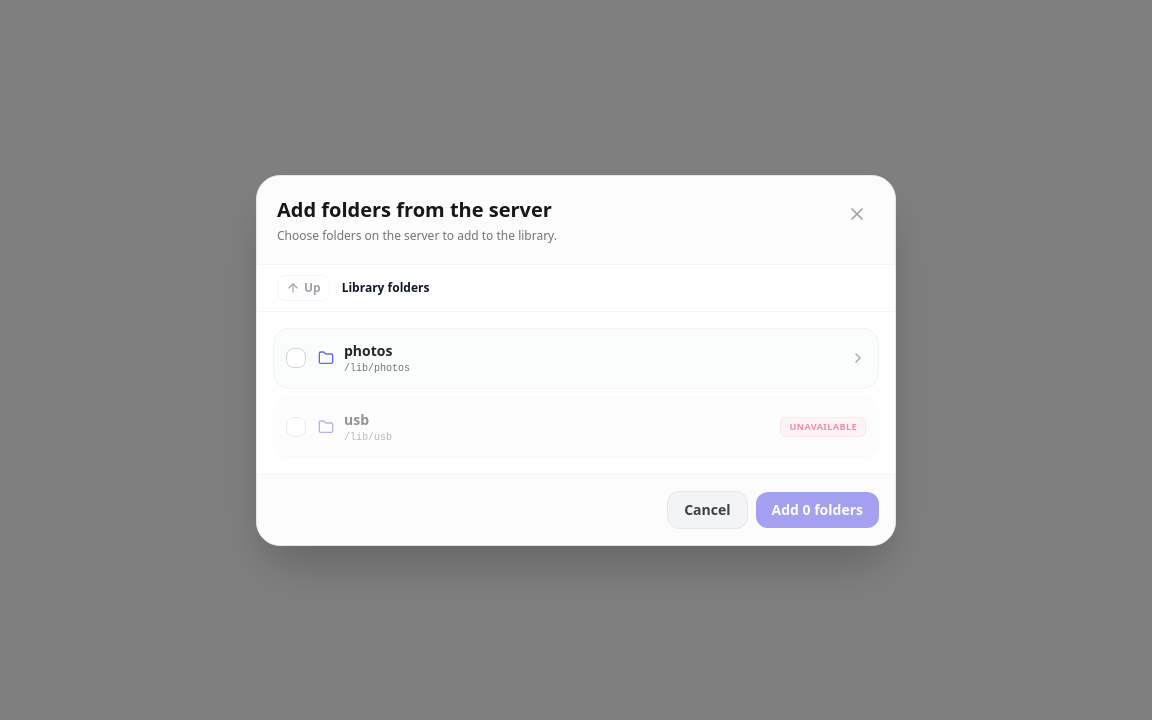
FolderPickerModal › goes up to the parent, then to the library folders from a root
Click the button with aria-label "Open photos".
click(368, 350)  # box [318,340,866,376]
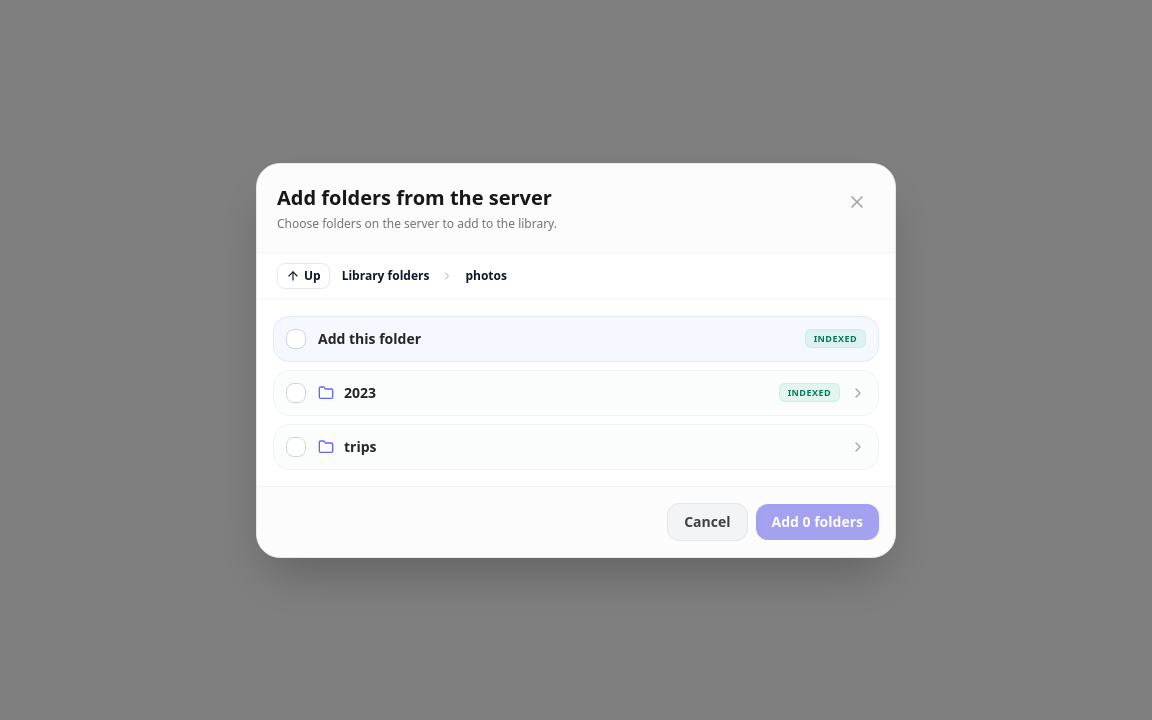
Click the button with aria-label "Open trips".
click(360, 446)  # box [318,436,866,456]
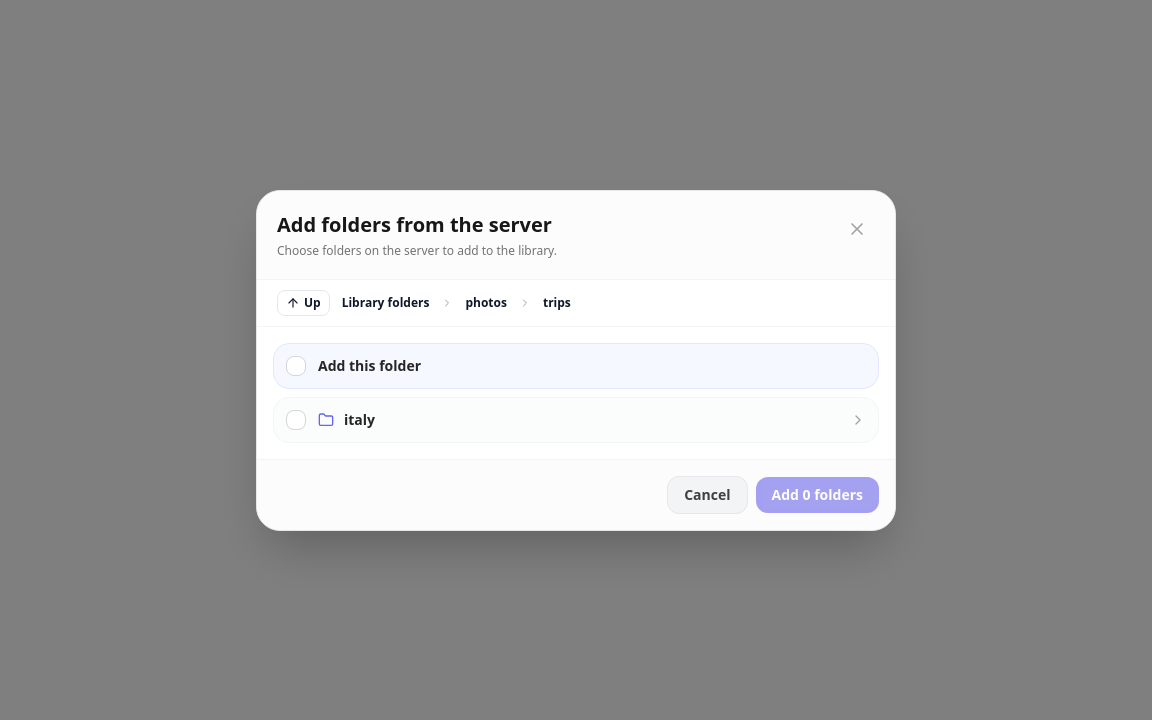
Now the button with aria-label "Open italy" is shown, box [318,410,866,430]
Click the button "Up".
click(303, 302)  # box [277,290,330,316]
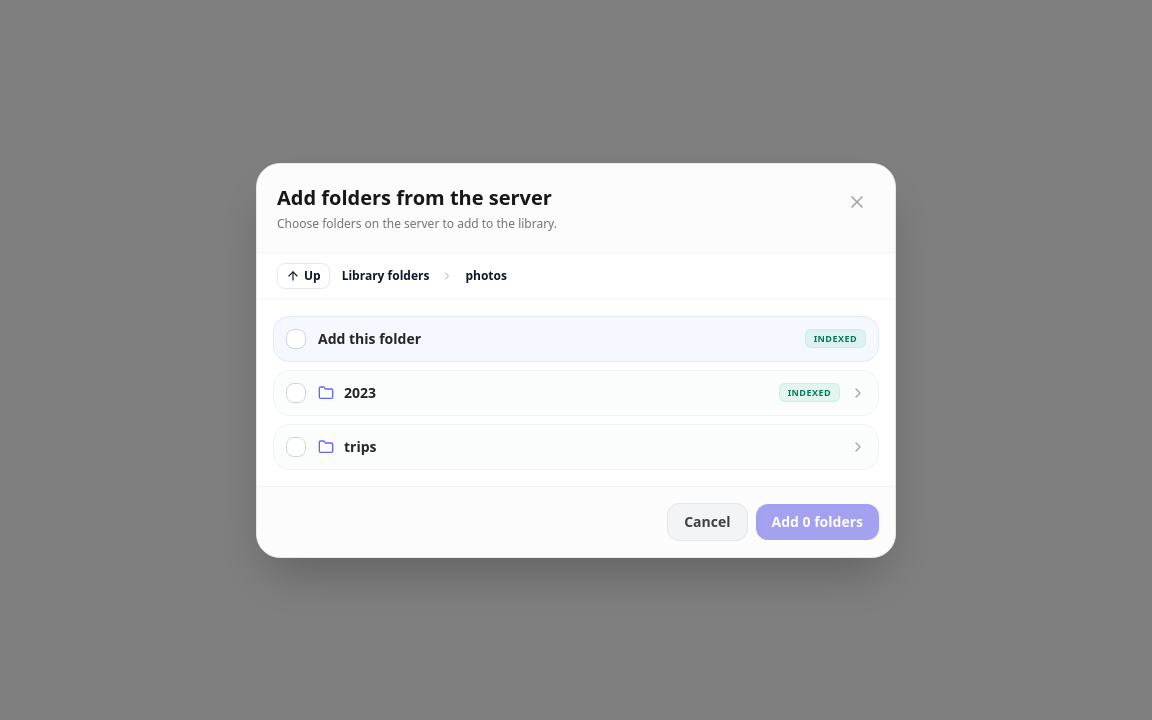
Now the button with aria-label "Open 2023" is shown, box [318,382,866,402]
Click the button "Up".
click(303, 276)  # box [277,262,330,288]
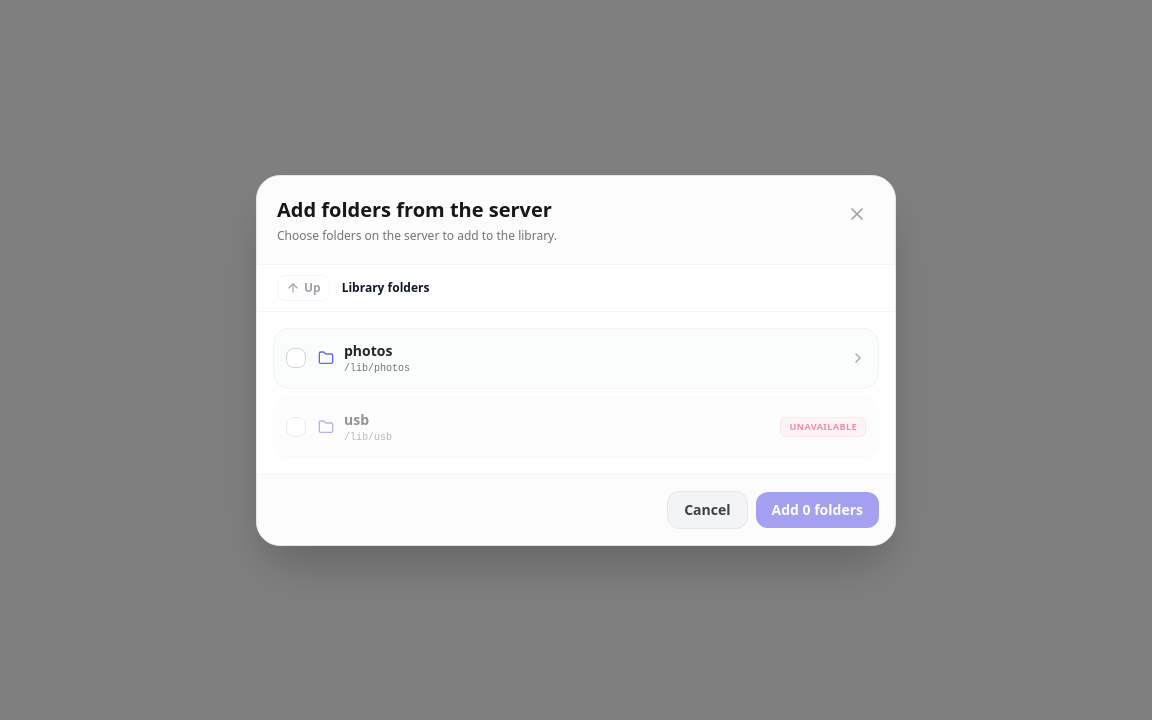
Now the button with aria-label "Open usb" is shown, box [318,410,866,444]
Now the button "Up" is disabled, box [277,274,330,300]
